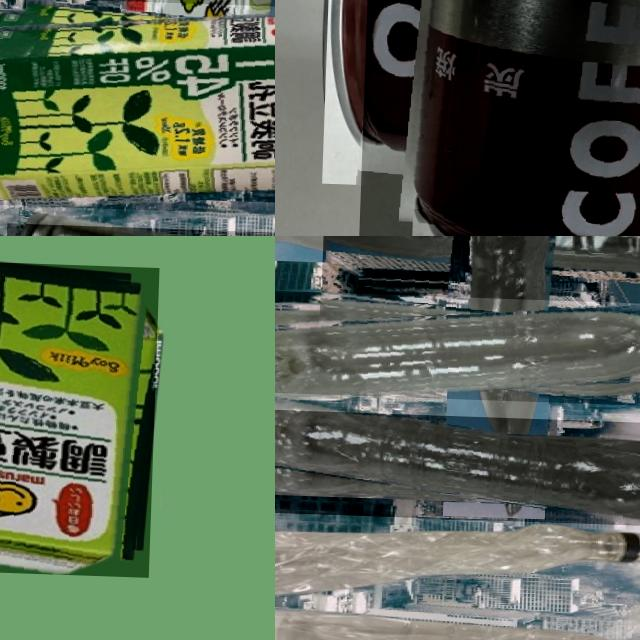Aluminium Foil: (0, 0, 275, 222), (0, 256, 158, 577), (23, 0, 275, 91)
Can: (357, 0, 640, 236)
Transparent Plastic Bottle: (317, 236, 640, 403), (275, 408, 640, 530), (275, 289, 640, 410), (275, 513, 640, 609), (275, 610, 640, 640)
